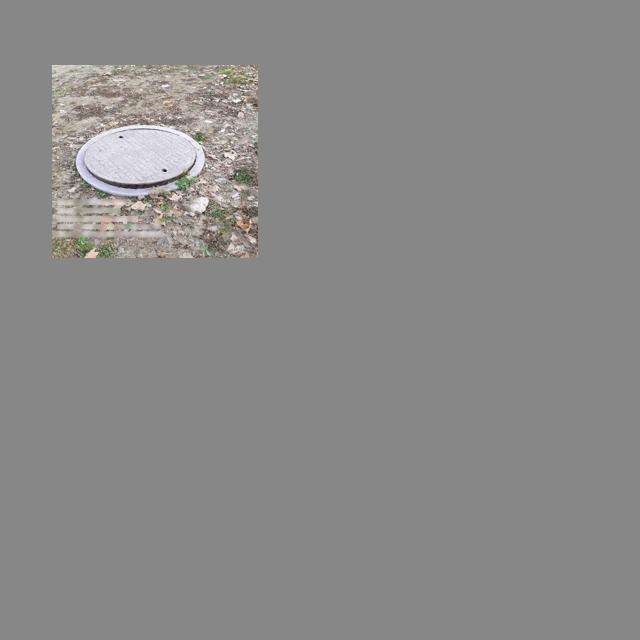uncovered: (76, 124, 205, 195)
